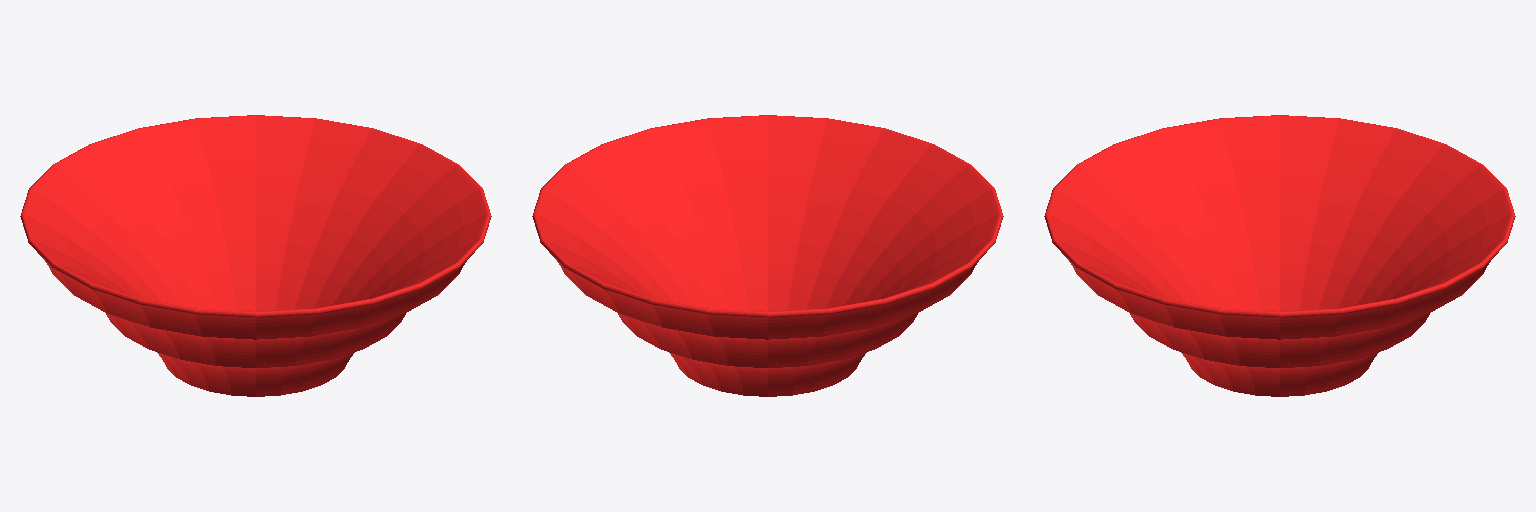
URDF robot description (bowl):
<?xml version="0.0" ?>
<robot name="bowl">
    <link concave="yes" name="base_link">
        <!-- <contact>
            <lateral_friction value="3.0"/>
            <rolling_friction value="3.0"/>
            <spinning_friction value="3.0"/>
        </contact> -->
        <inertial>
            <origin xyz="0 0 0.03"/>
            <mass value="1"/>
            <inertia ixx="1" ixy="0" ixz="0" iyy="1" iyz="0" izz="1"/>
        </inertial>
        <visual>
            <origin xyz="-0.01 -0.03  0"/>
            <geometry>
                <mesh filename="bowl.obj" scale="0.0013 0.0013 0.0013 "/>
            </geometry>
      <material name="bowl">
        <color rgba="1 0.2 0.2 1"/>
        <specular rgb="1 1 1"/>
      </material>
        </visual>
        <collision concave="yes">
            <origin xyz="-0.01 -0.03 0"/>
            <geometry>
                <mesh filename="bowl.obj" scale="0.0013 0.0013 0.0013 "/>
            </geometry>
        </collision>
    </link>
</robot>

--- Facts derived from the render (not from the file) ---
3 views of the same robot in one strip: view 1: azimuth 30°, elevation 25°; view 2: azimuth 150°, elevation 25°; view 3: azimuth 270°, elevation 25° (orthographic).
Model bowl with 1 links and 0 joints (none), rooted at base_link, posed all joints at 0.
Links seen in each view (by area): view 1: base_link; view 2: base_link; view 3: base_link.
Boxes of the visible links, box(x1,y1,x2,y2) form: base_link: box(20, 115, 491, 396); base_link: box(532, 115, 1003, 396); base_link: box(1044, 115, 1515, 396).
Size in the robot's own frame: 0.1575 by 0.1575 by 0.0533 metres.
1 mesh visuals loaded from 1 distinct referenced files (1 OBJ).